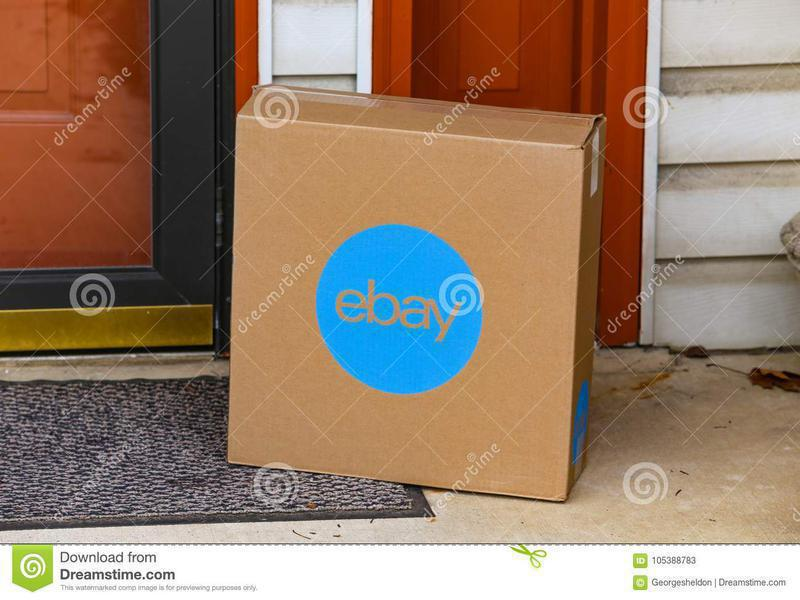package: (211, 71, 616, 514)
